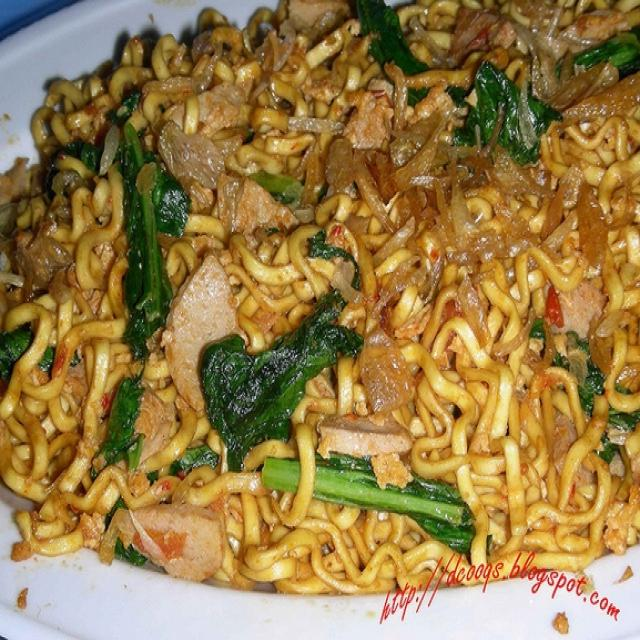面条主食: (35, 28, 608, 572)
